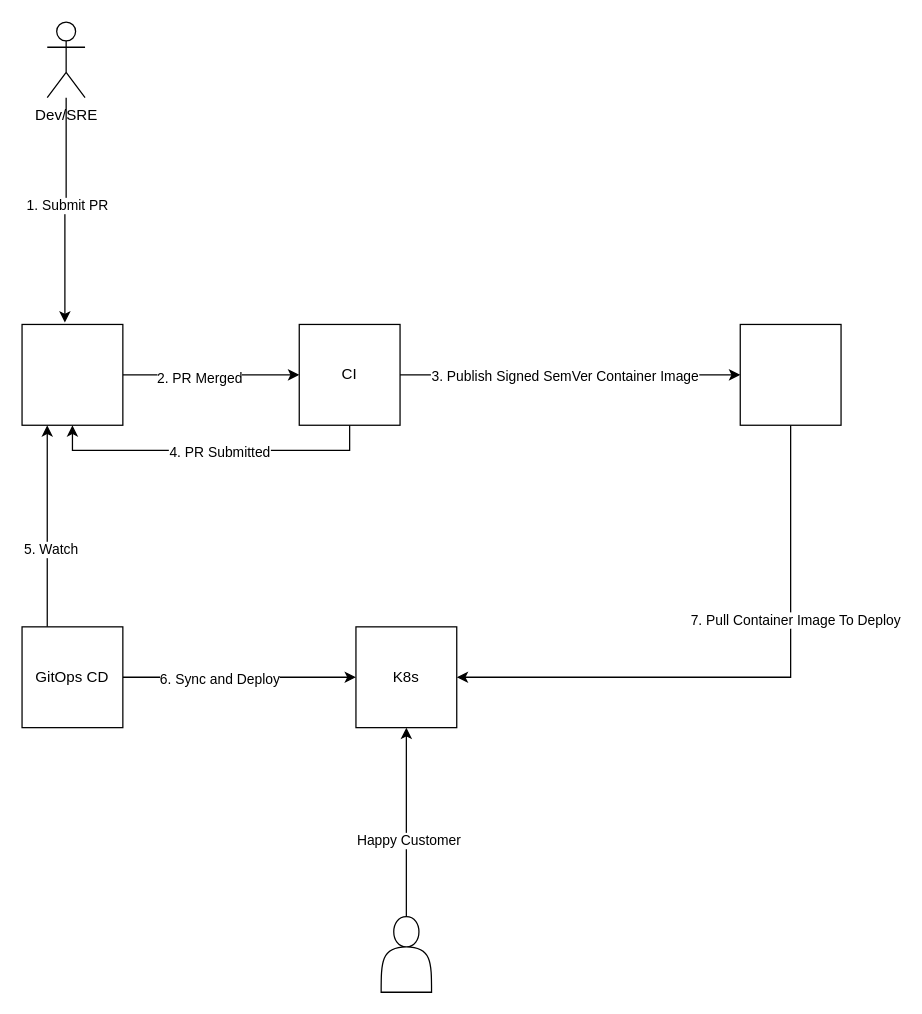
Image size: 922x1014. Some labels were removed from this diagram. Here are the shapes that lost their labels. From the top down, the box of each, then its label:
(21, 323, 123, 425): Git Repos
(739, 323, 841, 425): Private Artifact Repository
